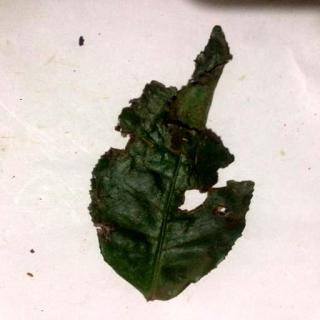Red Leaf Spot: (91, 28, 255, 303)
